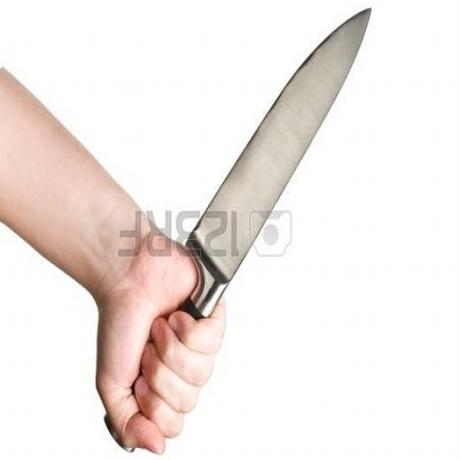1: (0, 68, 232, 458)
weapon: (101, 5, 372, 454)
